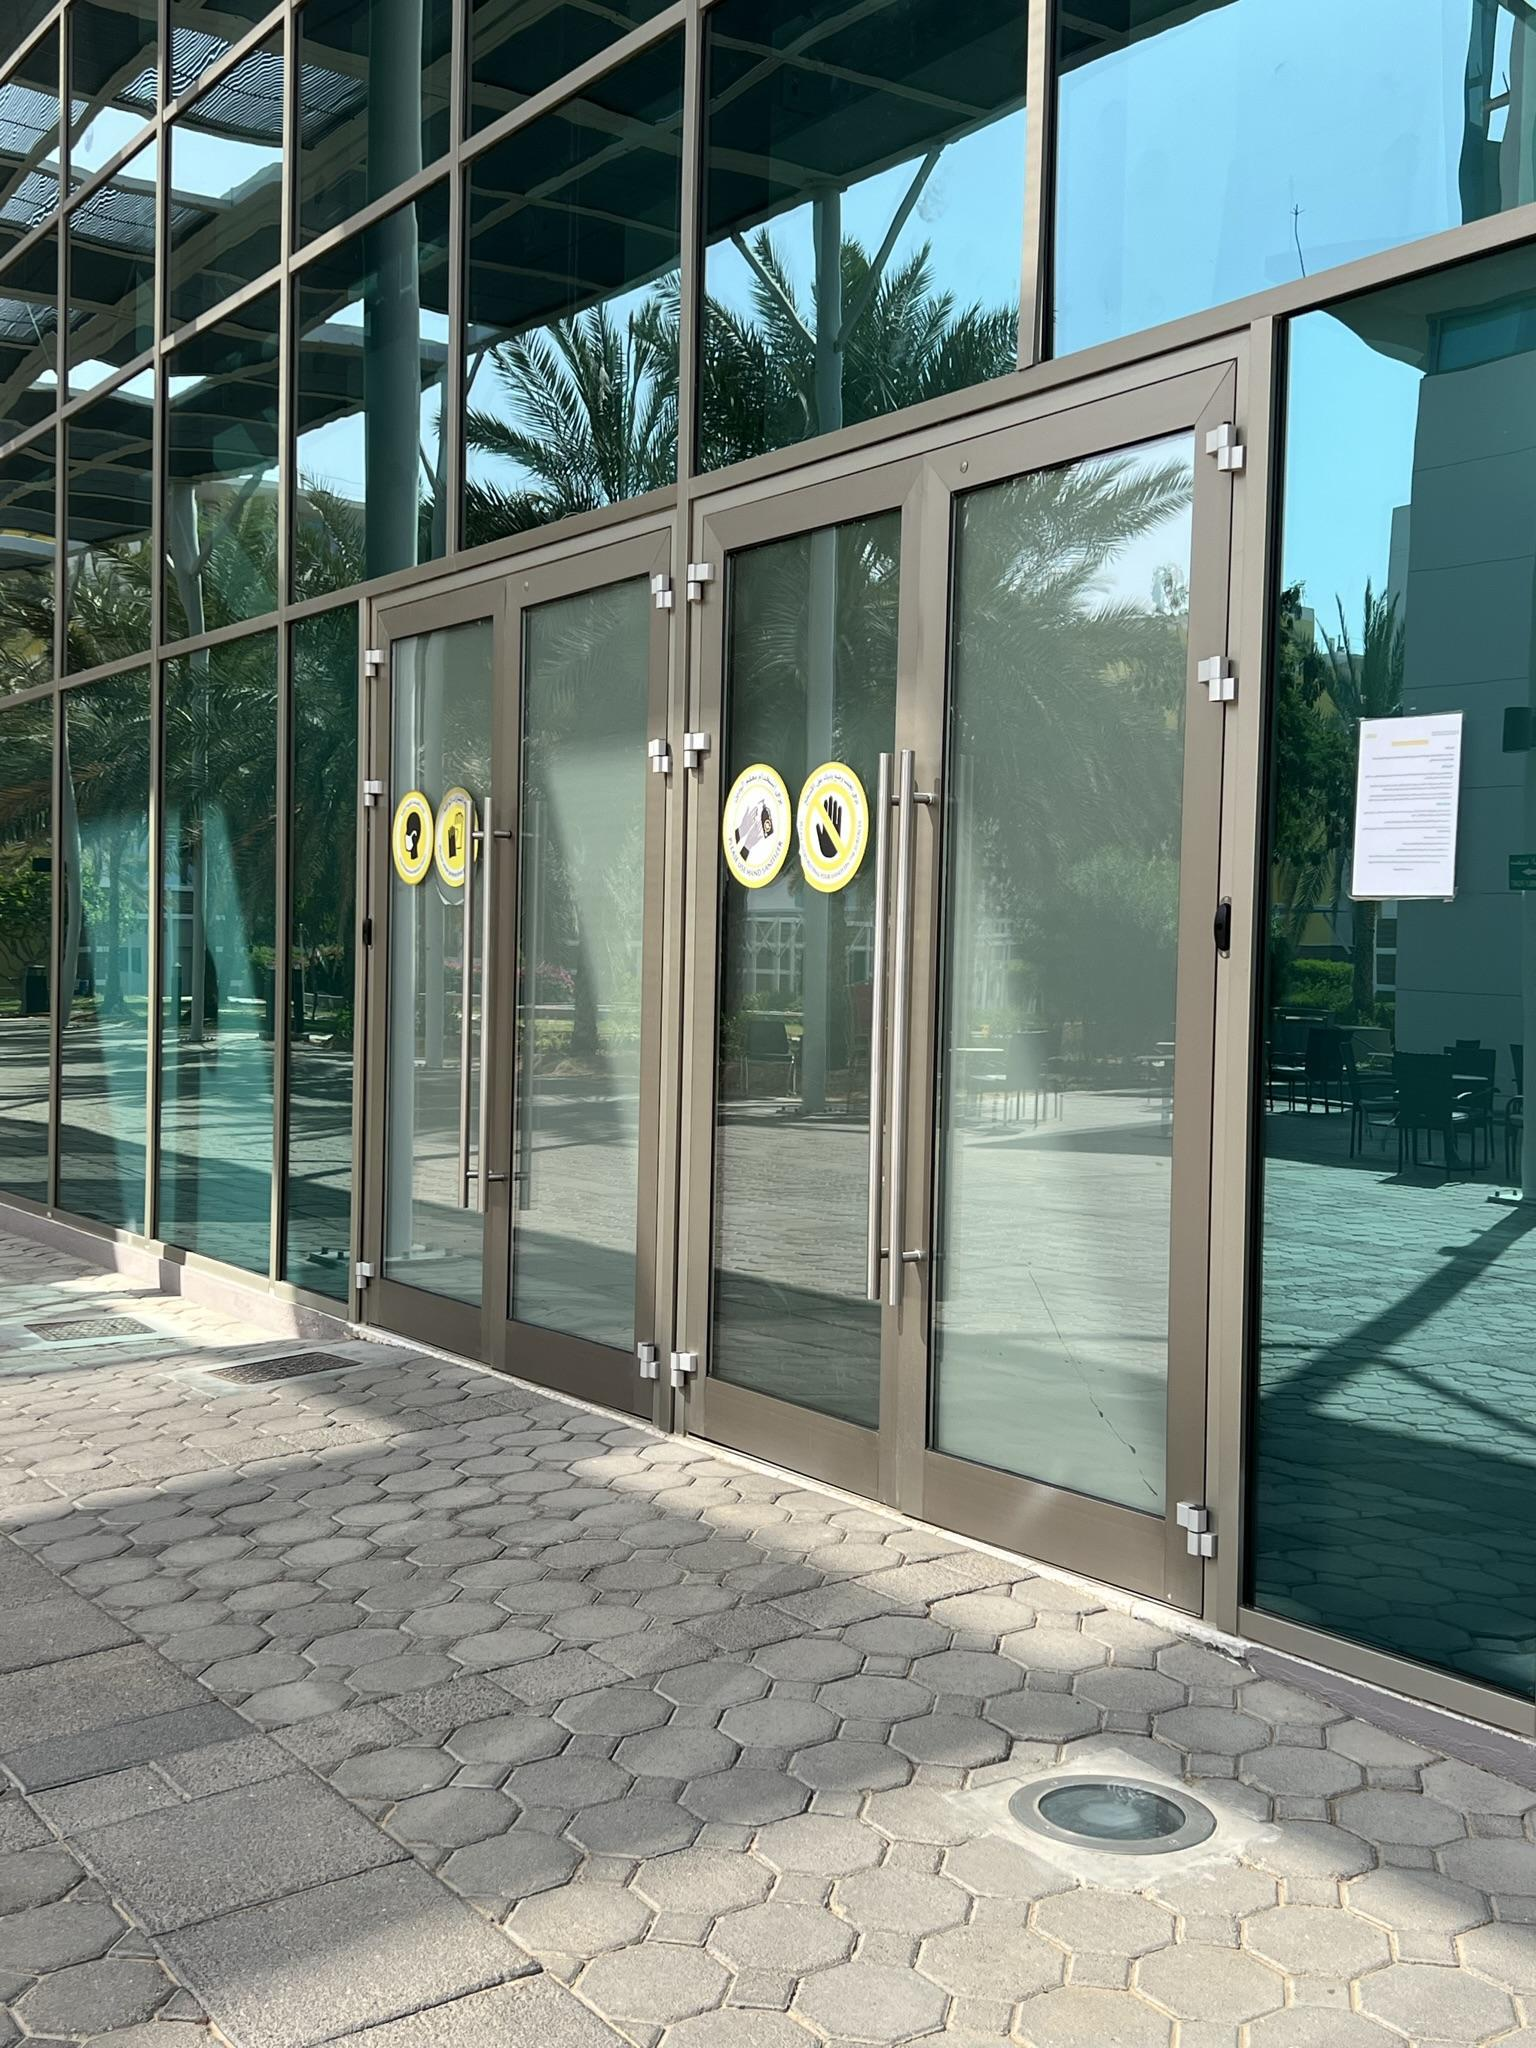door: (933, 440, 1233, 1609), (707, 490, 921, 1474), (497, 576, 673, 1401), (366, 616, 497, 1350)
handle: (887, 742, 936, 1308), (866, 745, 892, 1306), (479, 793, 513, 1218), (461, 797, 481, 1214)
